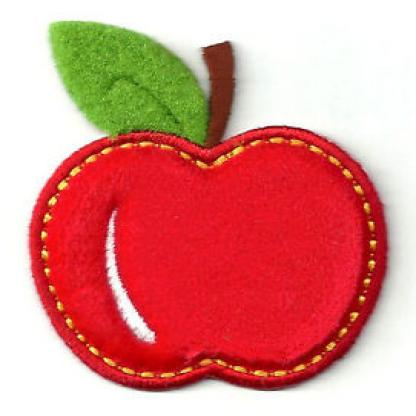apple: (26, 119, 395, 402)
